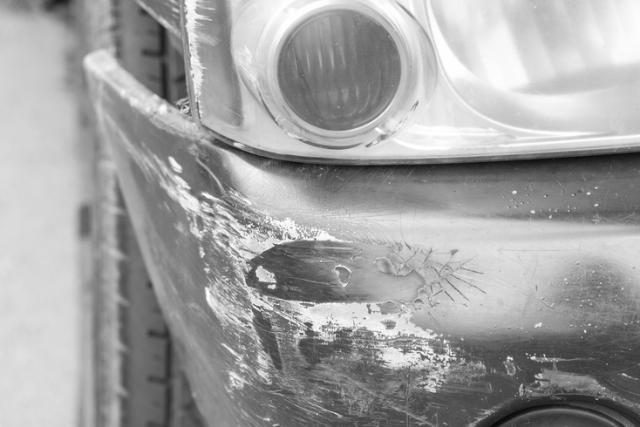Bumper: (87, 114, 563, 427)
